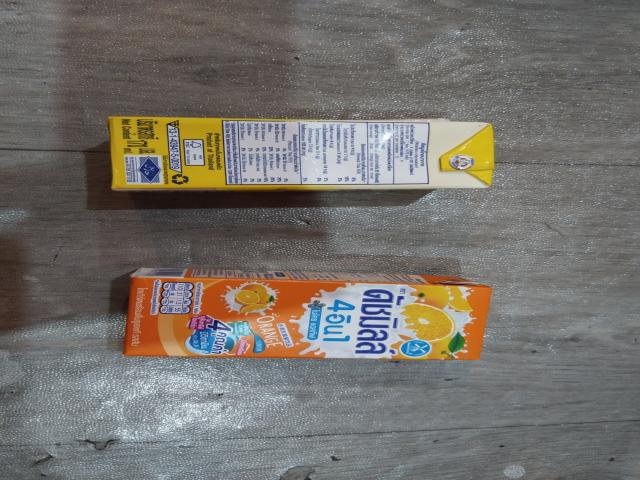drink_box: (105, 263, 500, 371), (99, 110, 502, 202)
